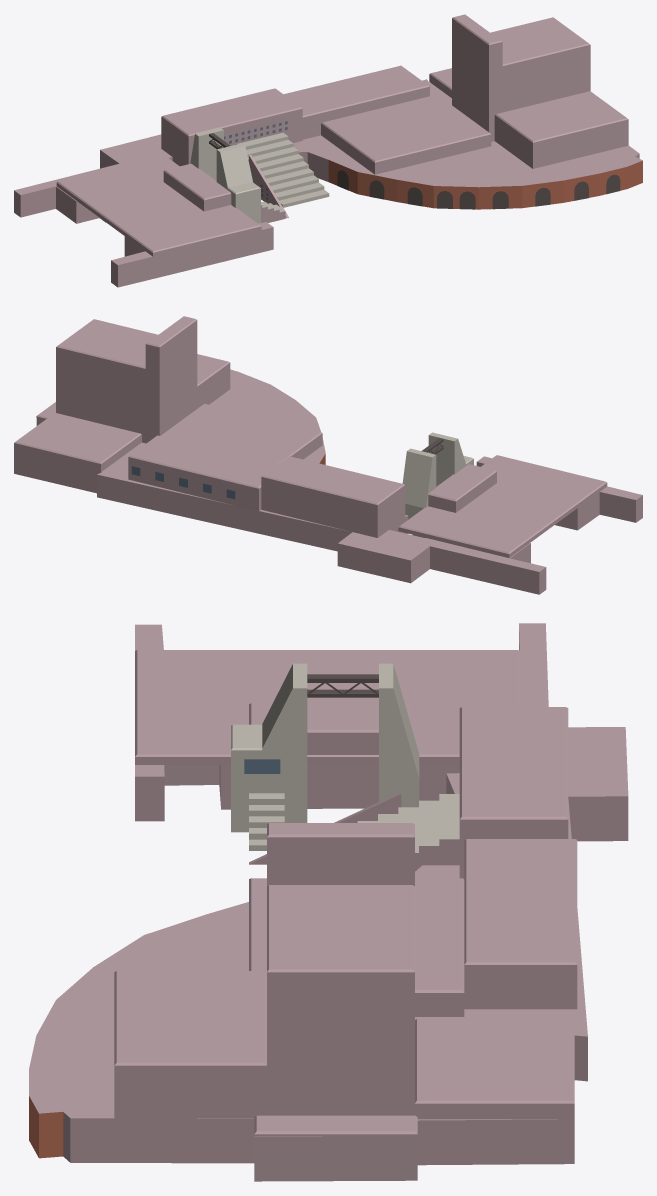
File: phx-nelson-fine-arts-center.glb
3 views of the same model, one above another, from view 1: azimuth 30°, elevation 25°; view 2: azimuth 150°, elevation 25°; view 3: azimuth 270°, elevation 25° (orthographic). The views are drawn at different scales.
Visible parts, largest first — view 1: Nelson Fine Arts Center; view 2: Nelson Fine Arts Center; view 3: Nelson Fine Arts Center.
Boxes of the visible parts, left/top/right/bottom form: Nelson Fine Arts Center: left=14, top=14, right=642, bottom=287; Nelson Fine Arts Center: left=14, top=316, right=642, bottom=594; Nelson Fine Arts Center: left=29, top=623, right=628, bottom=1181.
Size of the model in its own units: 135 by 29.7 by 66.86.
